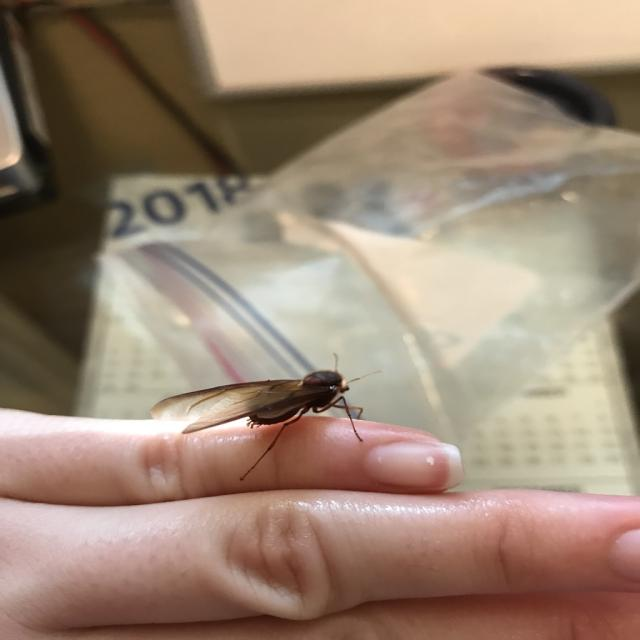Alive-Male-Alate: (150, 352, 384, 482)
